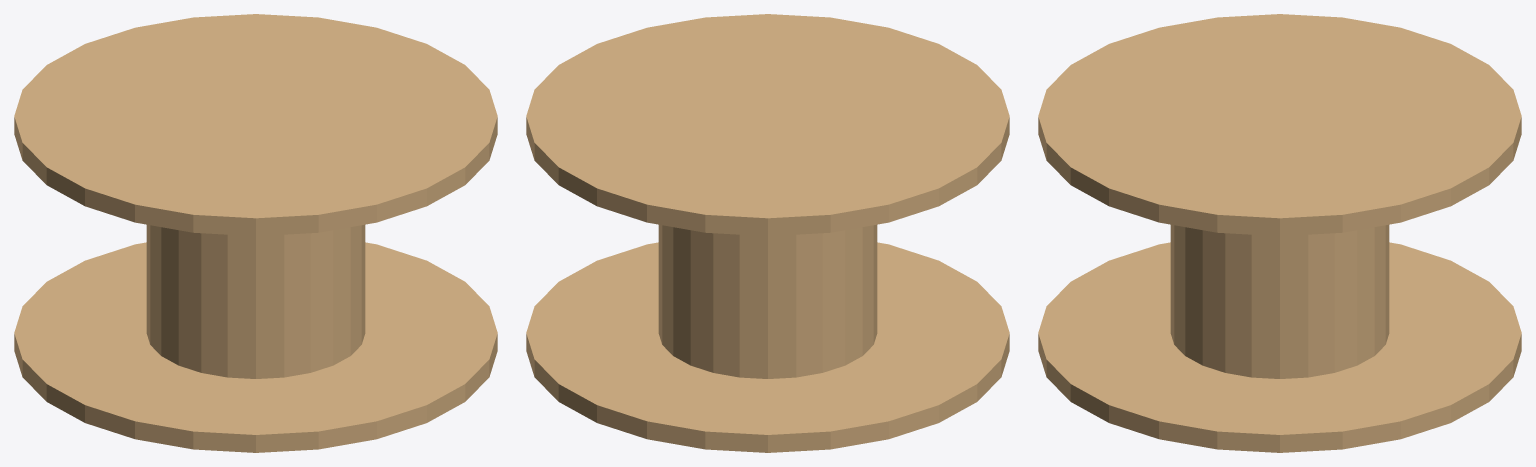
Rendered from Prop_Junk_Cable_Reel_Drum_Wooden_01.FBX.
The picture shows the model from 3 angles, left to right: view 1: azimuth 30°, elevation 25°; view 2: azimuth 150°, elevation 25°; view 3: azimuth 270°, elevation 25°; orthographic projection.
Visible parts, largest first — view 1: Prop_Junk_Cable_Reel_Drum_Wooden_01; view 2: Prop_Junk_Cable_Reel_Drum_Wooden_01; view 3: Prop_Junk_Cable_Reel_Drum_Wooden_01.
Part boxes in pixels (x1=…): Prop_Junk_Cable_Reel_Drum_Wooden_01: x1=14, y1=14, x2=497, y2=452; Prop_Junk_Cable_Reel_Drum_Wooden_01: x1=526, y1=14, x2=1009, y2=452; Prop_Junk_Cable_Reel_Drum_Wooden_01: x1=1038, y1=14, x2=1521, y2=452.
Size of the model in its own units: 970 by 519 by 970.
